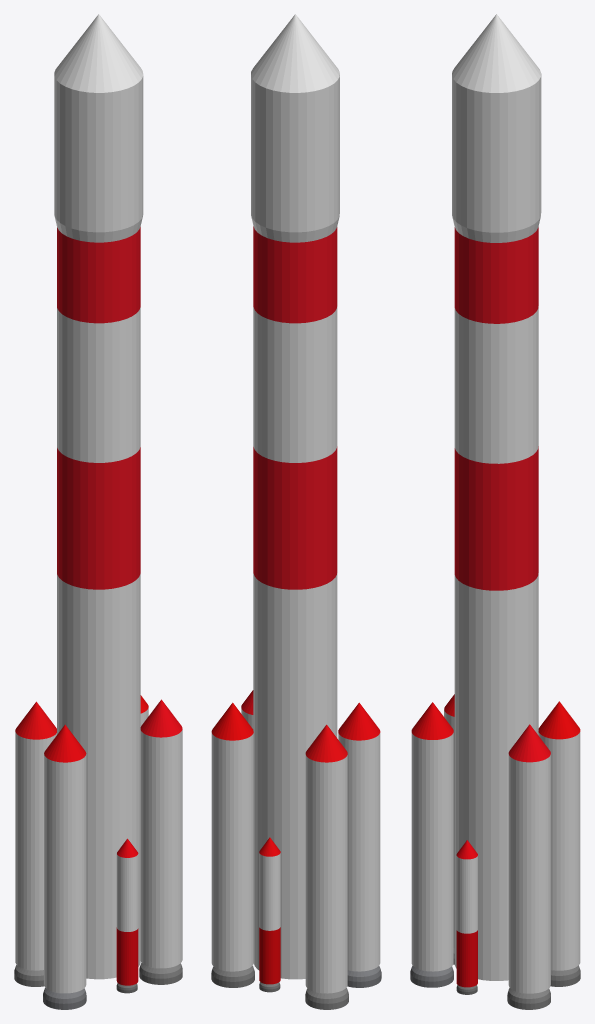
The model's file is lanceur2.glb.
The picture shows the model from 3 angles, left to right: view 1: azimuth 30°, elevation 25°; view 2: azimuth 150°, elevation 25°; view 3: azimuth 330°, elevation 25°; orthographic projection.
Parts seen in each view (by area): view 1: Circle, BoosterTop.001, BoosterTop.003, BoosterTop.002, SmallBoosterTop, Engine.001, Engine.003, Engine.002; view 2: Circle, BoosterTop.002, BoosterTop, BoosterTop.003, SmallBoosterTop.001, Engine, Engine.002, Engine.003; view 3: Circle, BoosterTop.003, BoosterTop.001, BoosterTop, SmallBoosterTop, Engine.003, Engine.001, BoosterTop.002, Engine.
Part boxes in pixels (x1,y1,x2,y2): Circle: [54, 14, 143, 979]; BoosterTop.001: [140, 699, 182, 968]; BoosterTop.003: [44, 724, 86, 993]; BoosterTop.002: [15, 701, 56, 970]; SmallBoosterTop: [116, 838, 138, 985]; Engine.001: [139, 962, 182, 984]; Engine.003: [43, 988, 86, 1009]; Engine.002: [14, 965, 44, 986]; Circle: [251, 14, 339, 979]; BoosterTop.002: [305, 724, 347, 993]; BoosterTop: [211, 702, 253, 971]; BoosterTop.003: [338, 702, 380, 971]; SmallBoosterTop.001: [259, 837, 280, 984]; Engine: [211, 966, 254, 987]; Engine.002: [305, 988, 348, 1009]; Engine.003: [347, 966, 381, 987]; Circle: [452, 14, 541, 980]; BoosterTop.003: [411, 702, 453, 971]; BoosterTop.001: [508, 724, 550, 993]; BoosterTop: [538, 701, 580, 970]; SmallBoosterTop: [456, 840, 477, 987]; Engine.003: [410, 965, 453, 987]; Engine.001: [507, 988, 550, 1009]; BoosterTop.002: [444, 694, 454, 948]; Engine: [550, 965, 580, 986].
Bounding box in the file's own units: 0.7392 × 5.06 × 0.6284.
